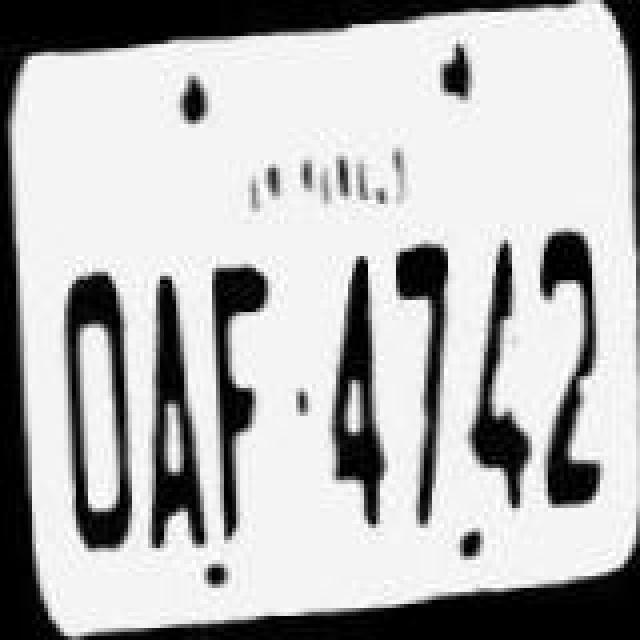2: (520, 220, 612, 516)
4: (306, 248, 394, 536), (444, 220, 528, 520)
7: (380, 232, 464, 528)
A: (130, 272, 206, 556)
F: (196, 264, 280, 552)
O: (34, 260, 138, 556)
